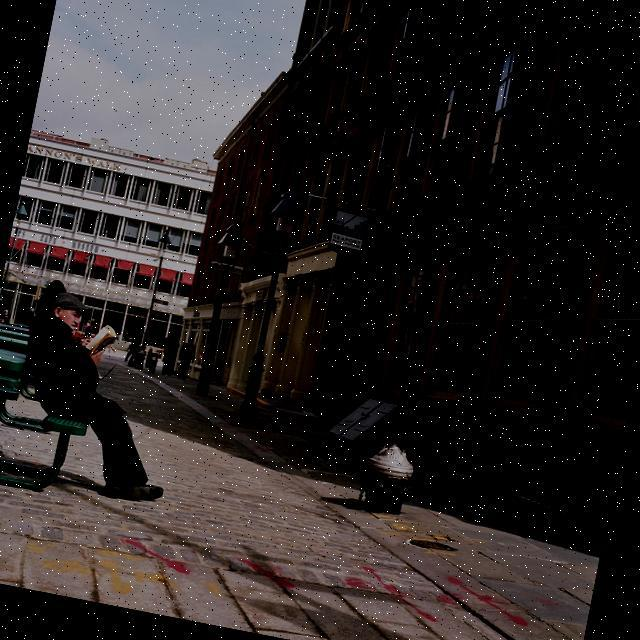fire_hydrant: (352, 438, 422, 518), (132, 348, 148, 369), (146, 356, 158, 374)
